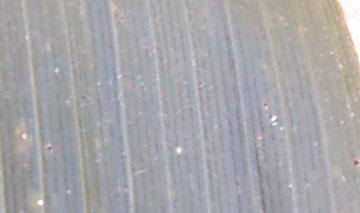tarspot: (80, 92, 88, 101), (260, 100, 269, 107), (353, 159, 360, 167), (45, 144, 53, 151), (119, 13, 126, 21), (197, 77, 203, 86), (159, 54, 165, 63)
